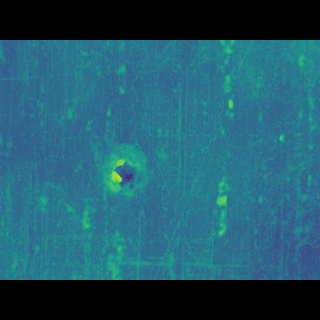Loch: (102, 154, 146, 184)
